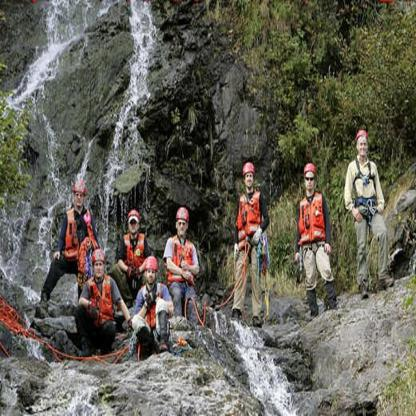face: (95, 258, 104, 277), (178, 218, 187, 236), (147, 267, 156, 285), (359, 138, 368, 156), (76, 189, 85, 206), (130, 217, 139, 233), (307, 172, 315, 190), (246, 172, 254, 188)
